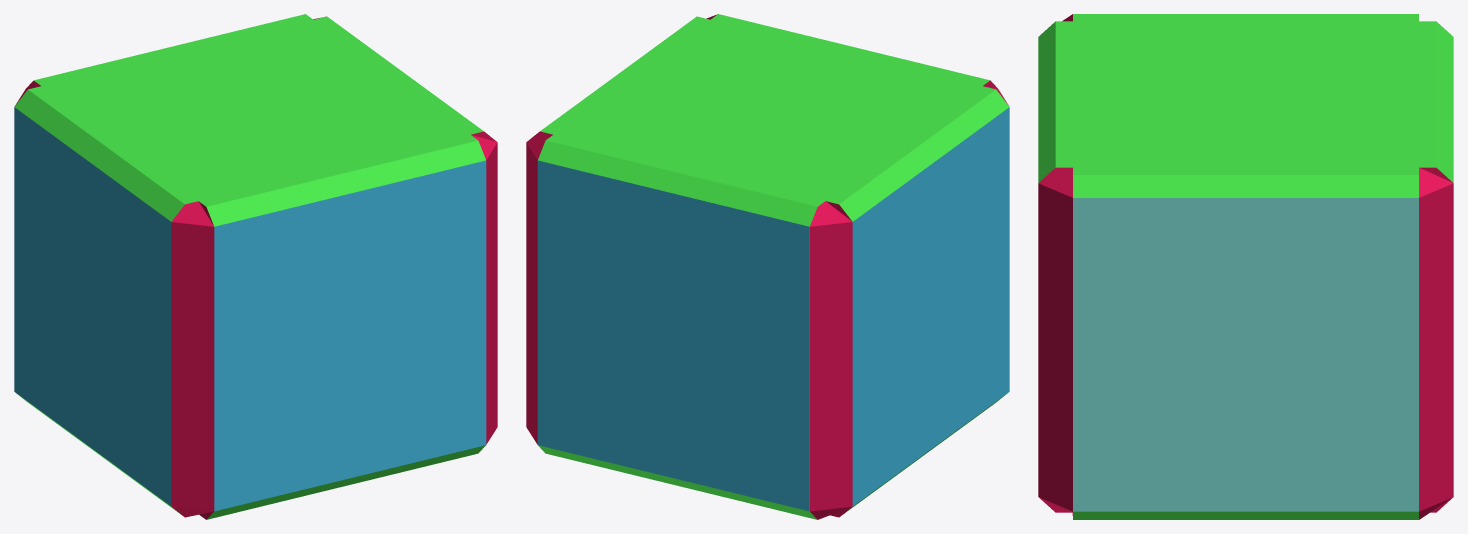
File: Patrol1.fbx
3 views of the same model, side by side, from view 1: azimuth 30°, elevation 25°; view 2: azimuth 150°, elevation 25°; view 3: azimuth 270°, elevation 25° (orthographic). The views are drawn at different scales.
Visible parts, largest first — view 1: FaceD, Tapa Superior, FaceC, FaceB.007, FaceB.004, Tapa Inferior; view 2: FaceA, Tapa Superior, FaceC, FaceB.006, FaceB.005, Tapa Inferior; view 3: FaceB, Tapa Superior, FaceB.005, FaceB.004, Tapa Inferior.
Part boxes in pixels (x1,y1,x2,y2): FaceD: (214, 160, 486, 511); Tapa Superior: (14, 14, 485, 226); FaceC: (14, 107, 171, 506); FaceB.007: (171, 201, 214, 519); FaceB.004: (471, 131, 497, 444); Tapa Inferior: (17, 394, 485, 519); FaceA: (537, 160, 809, 511); Tapa Superior: (538, 14, 1009, 226); FaceC: (852, 107, 1009, 506); FaceB.006: (810, 201, 852, 519); FaceB.005: (526, 131, 552, 453); Tapa Inferior: (538, 394, 1006, 519); FaceB: (1073, 198, 1418, 511); Tapa Superior: (1038, 14, 1453, 197); FaceB.005: (1419, 167, 1453, 519); FaceB.004: (1038, 167, 1072, 515); Tapa Inferior: (1073, 511, 1418, 519).
Size of the model in its own units: 240 by 220 by 240.
